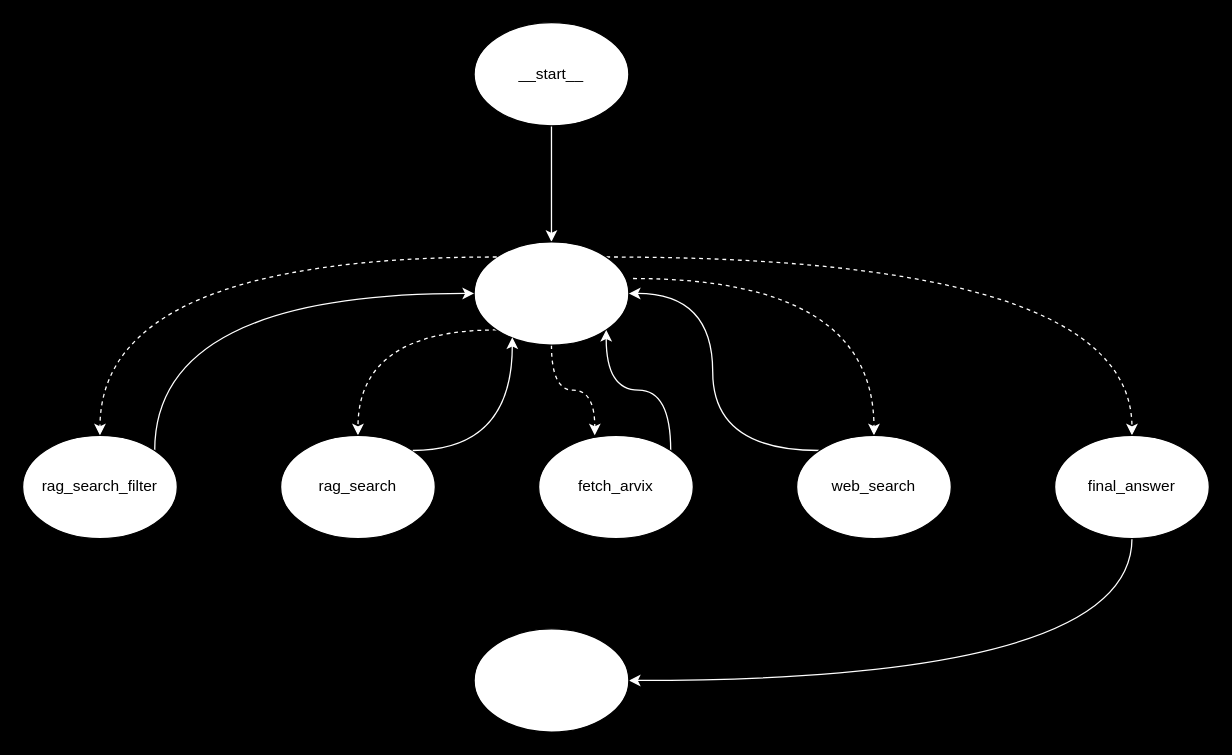
Some shapes in this 1232 by 755 pixel diagram are drawn without their labels. The shapes that lost their labels are listed below. From the top down, each one's centre as x and y in pixels, then its label:
At [551,293]: "oracle".
At [551,680]: "__end__".
